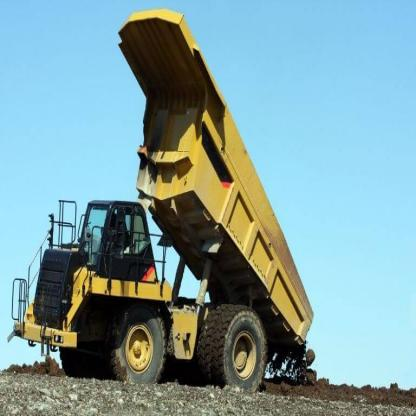dump_truck: (9, 5, 320, 383)
